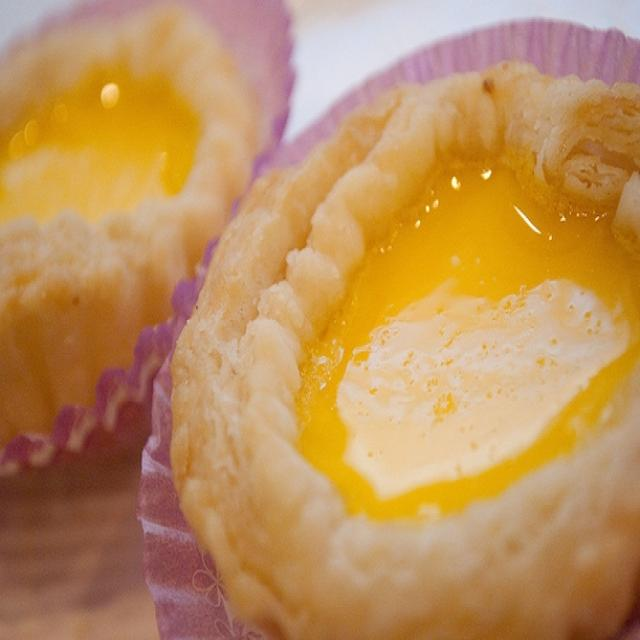炸货点心: (183, 31, 630, 622)
蛋糕甜品: (183, 31, 630, 622)
